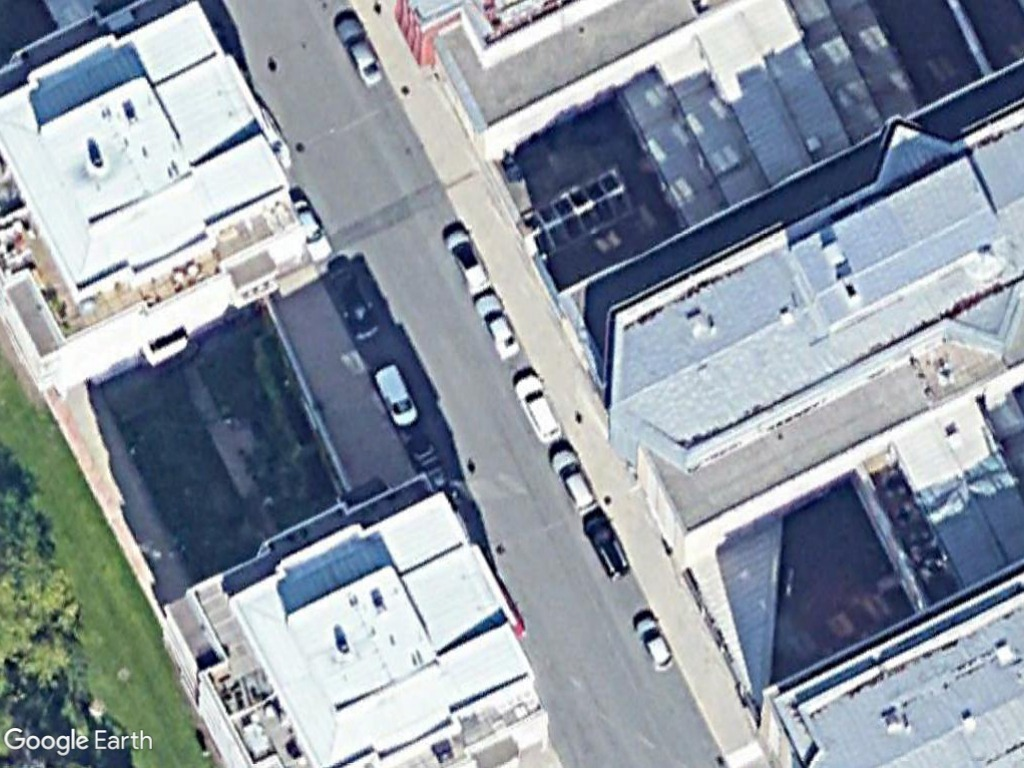car: (506, 368, 572, 448), (331, 11, 392, 94), (546, 442, 606, 521), (464, 289, 522, 368), (576, 505, 633, 584), (440, 223, 493, 302), (629, 611, 684, 679)
van: (367, 355, 421, 434)
